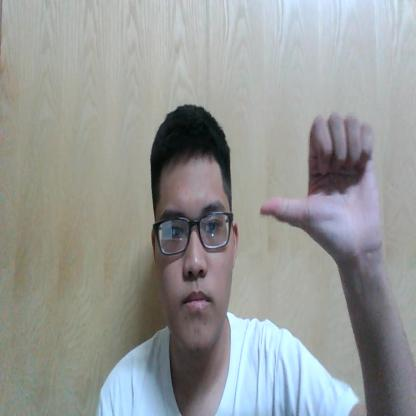right: (261, 111, 381, 255)
